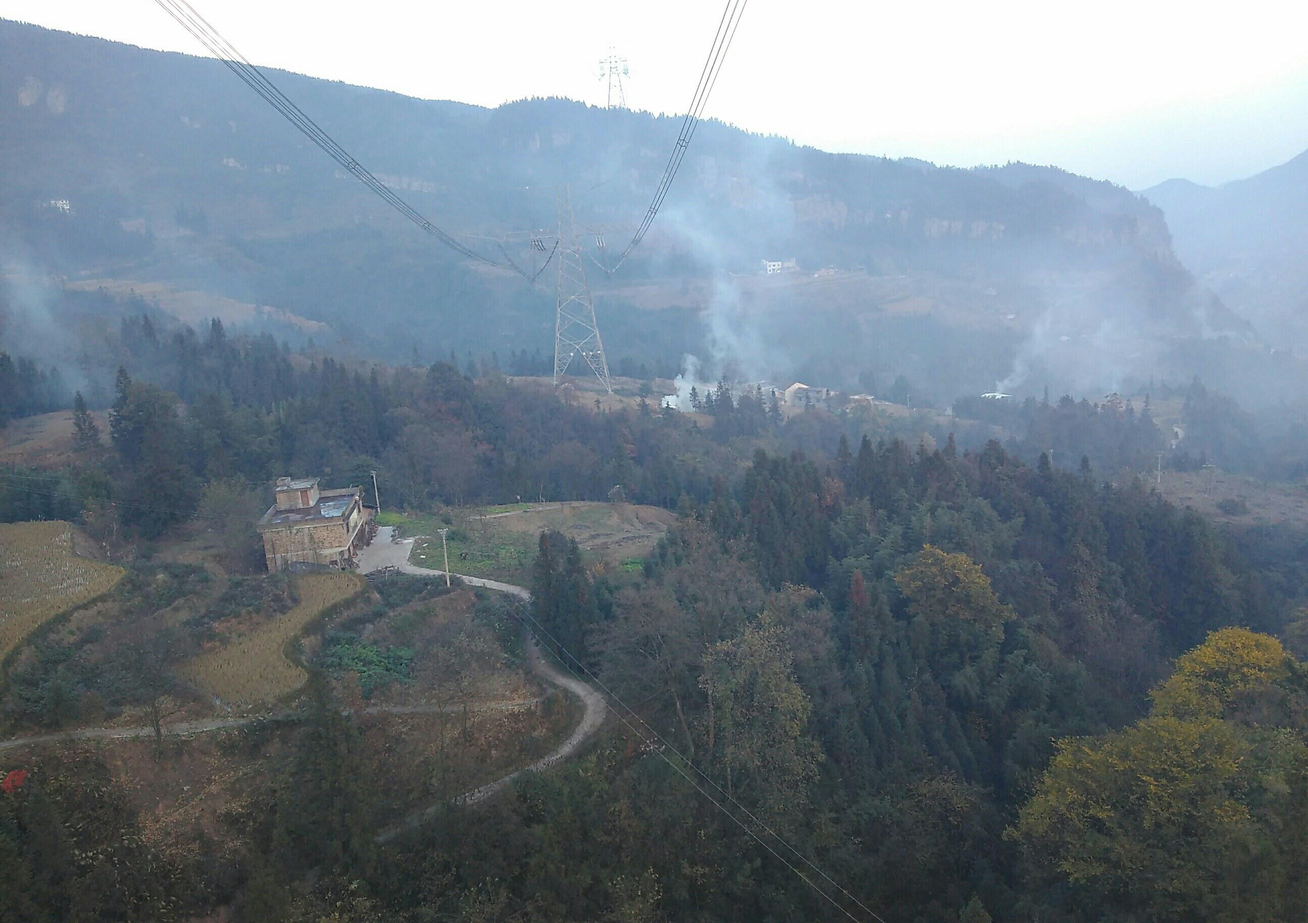烟雾: (0, 129, 1307, 416)
